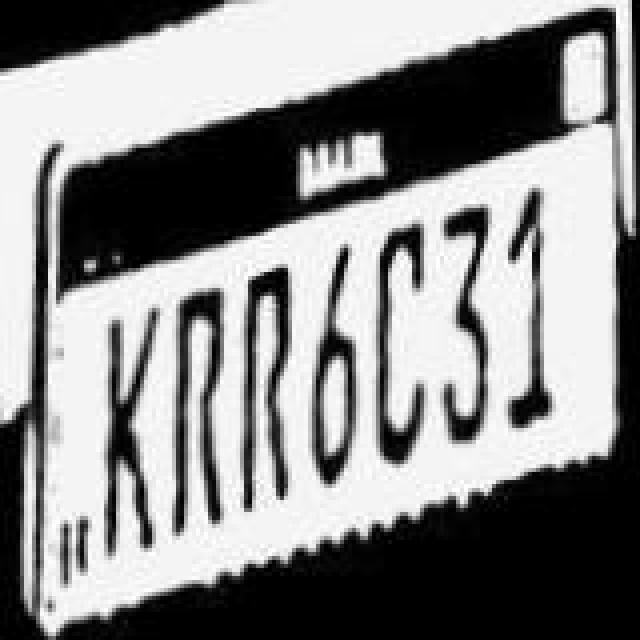1: (494, 184, 554, 428)
3: (436, 202, 500, 446)
6: (302, 244, 366, 484)
C: (368, 222, 436, 470)
K: (96, 300, 172, 556)
R: (164, 286, 236, 534), (234, 266, 306, 514)
